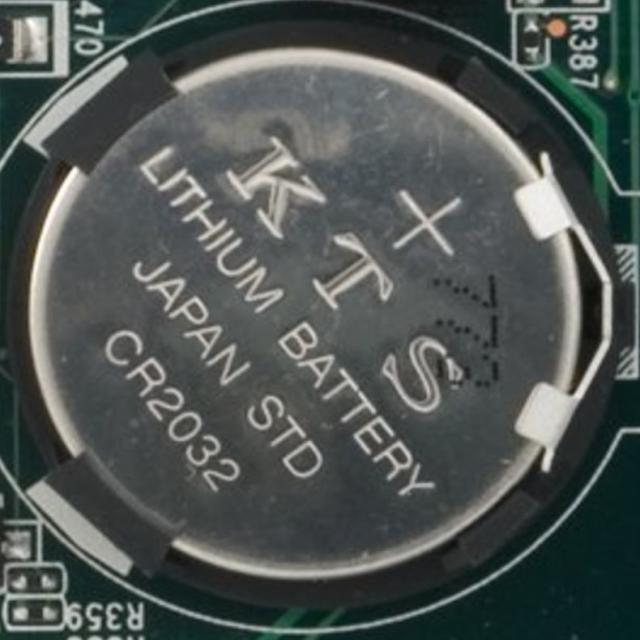battery: (24, 42, 587, 591)
resistor IR1: (519, 25, 539, 58)
